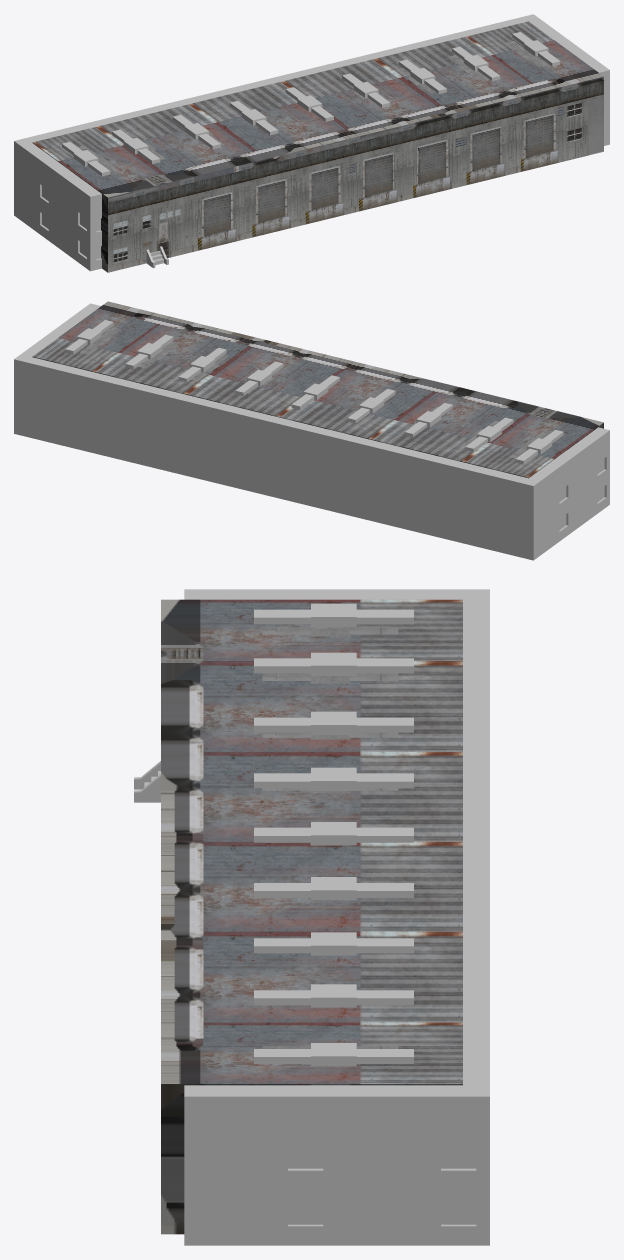
File: dz_industrial_05.fbx
The picture shows the model from 3 angles, top to bottom: view 1: azimuth 30°, elevation 25°; view 2: azimuth 150°, elevation 25°; view 3: azimuth 270°, elevation 25°; orthographic projection. The views are drawn at different scales.
Parts seen in each view (by area): view 1: dz_industrial_05_LOD0; view 2: dz_industrial_05_LOD0; view 3: dz_industrial_05_LOD0.
Part boxes in pixels (x1,y1,x2,y2): dz_industrial_05_LOD0: [14, 14, 609, 272]; dz_industrial_05_LOD0: [14, 301, 609, 560]; dz_industrial_05_LOD0: [134, 589, 489, 1245].
Size of what is drawn, in the model's own units: 53.43 by 7.88 by 15.84.
